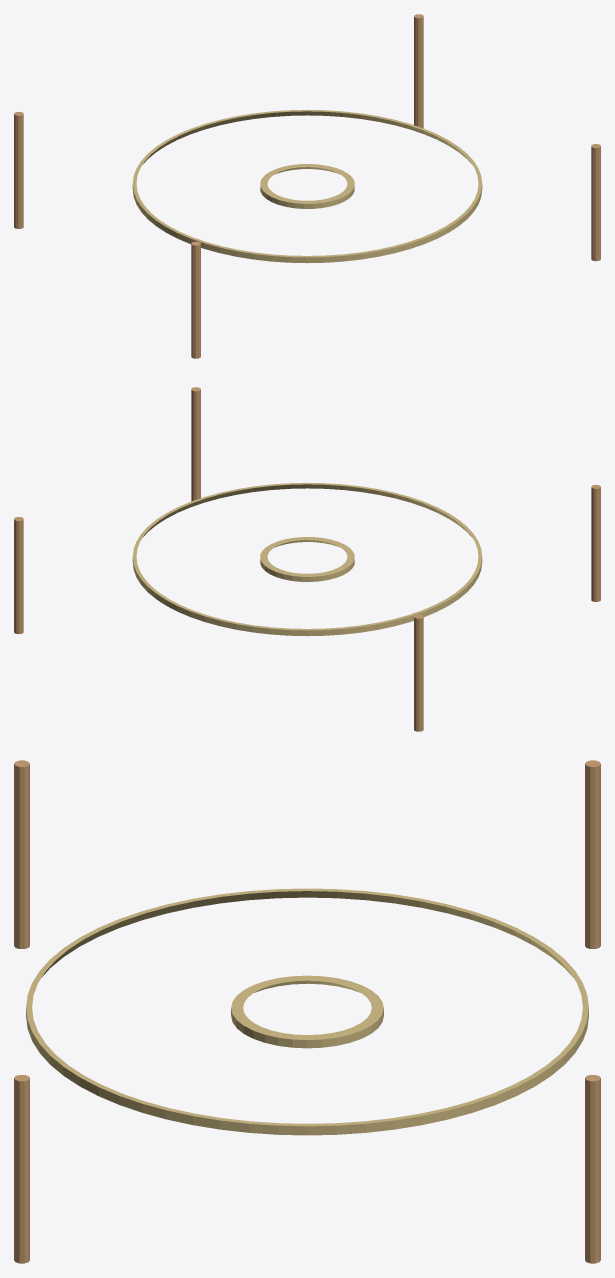
File: 10_L82_ConductiveSeamGasketSet.glb
3 views of the same model, one above another, from view 1: azimuth 30°, elevation 25°; view 2: azimuth 150°, elevation 25°; view 3: azimuth 270°, elevation 25° (orthographic). The views are drawn at different scales.
Parts seen in each view (by area): view 1: ConductiveSeamGasketSet_Node_0004, ConductiveSeamGasketSet_Node_0005, ConductiveSeamGasketSet_Node_0001, ConductiveSeamGasketSet_Node_0000, ConductiveSeamGasketSet_Node_0003, ConductiveSeamGasketSet_Node_0002; view 2: ConductiveSeamGasketSet_Node_0004, ConductiveSeamGasketSet_Node_0005, ConductiveSeamGasketSet_Node_0000, ConductiveSeamGasketSet_Node_0001, ConductiveSeamGasketSet_Node_0002, ConductiveSeamGasketSet_Node_0003; view 3: ConductiveSeamGasketSet_Node_0004, ConductiveSeamGasketSet_Node_0005, ConductiveSeamGasketSet_Node_0000, ConductiveSeamGasketSet_Node_0001, ConductiveSeamGasketSet_Node_0002, ConductiveSeamGasketSet_Node_0003.
Part boxes in pixels (x1,y1,x2,y2): ConductiveSeamGasketSet_Node_0004: (132,109,482,263); ConductiveSeamGasketSet_Node_0005: (260,164,354,208); ConductiveSeamGasketSet_Node_0001: (191,241,200,358); ConductiveSeamGasketSet_Node_0000: (14,111,23,228); ConductiveSeamGasketSet_Node_0003: (591,144,600,261); ConductiveSeamGasketSet_Node_0002: (414,14,423,128); ConductiveSeamGasketSet_Node_0004: (132,482,482,636); ConductiveSeamGasketSet_Node_0005: (260,537,354,581); ConductiveSeamGasketSet_Node_0000: (414,614,423,731); ConductiveSeamGasketSet_Node_0001: (591,484,600,601); ConductiveSeamGasketSet_Node_0002: (14,517,23,634); ConductiveSeamGasketSet_Node_0003: (191,387,200,501); ConductiveSeamGasketSet_Node_0004: (26,888,588,1135); ConductiveSeamGasketSet_Node_0005: (231,975,383,1048); ConductiveSeamGasketSet_Node_0000: (585,760,600,948); ConductiveSeamGasketSet_Node_0001: (14,760,29,948); ConductiveSeamGasketSet_Node_0002: (585,1075,600,1263); ConductiveSeamGasketSet_Node_0003: (14,1075,29,1263).
Bounding box in the file's own units: 3.78 × 1 × 2.92.
